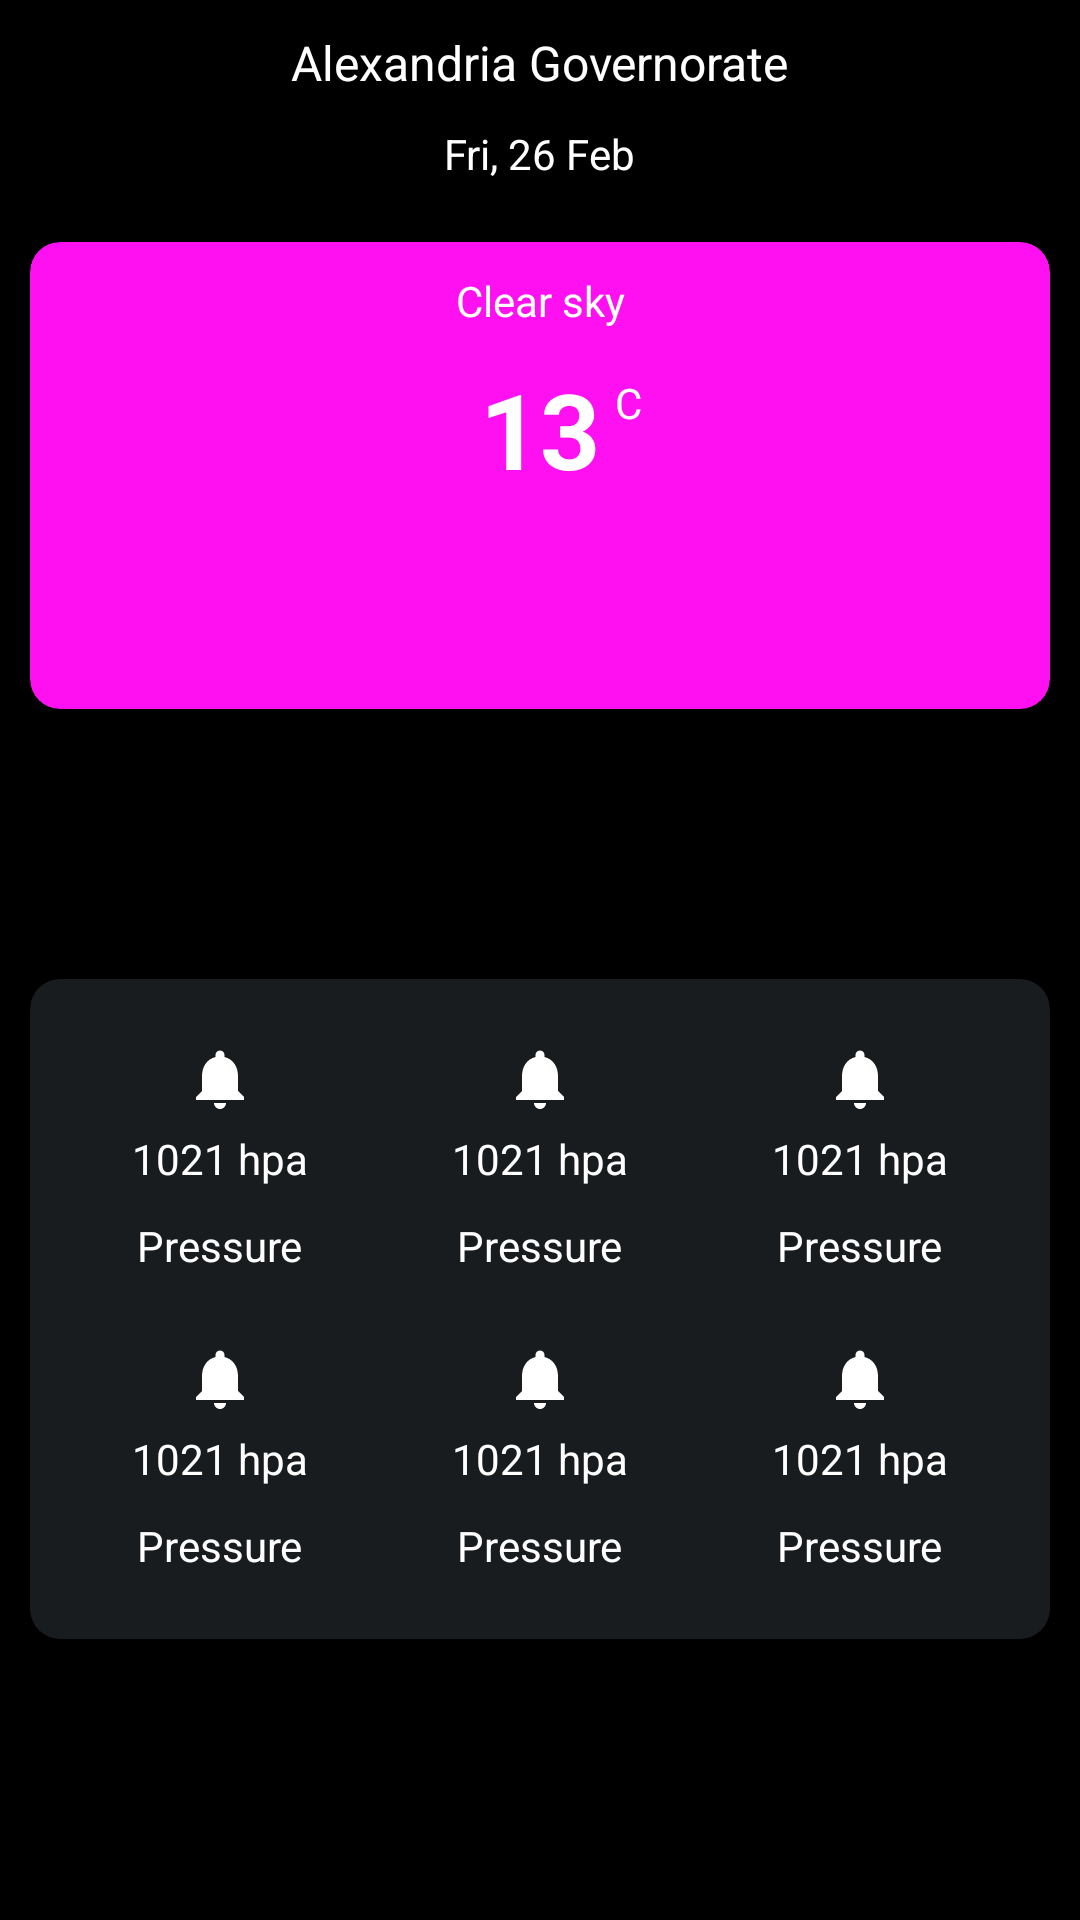

Locate icon controls on the screen. Image size 1080w x 1920h, boxes as (x1, y1, x2, y2).
alert: (196, 1050, 244, 1109), (516, 1050, 564, 1109), (836, 1050, 884, 1109), (196, 1350, 244, 1409), (516, 1350, 564, 1409), (836, 1350, 884, 1409)
